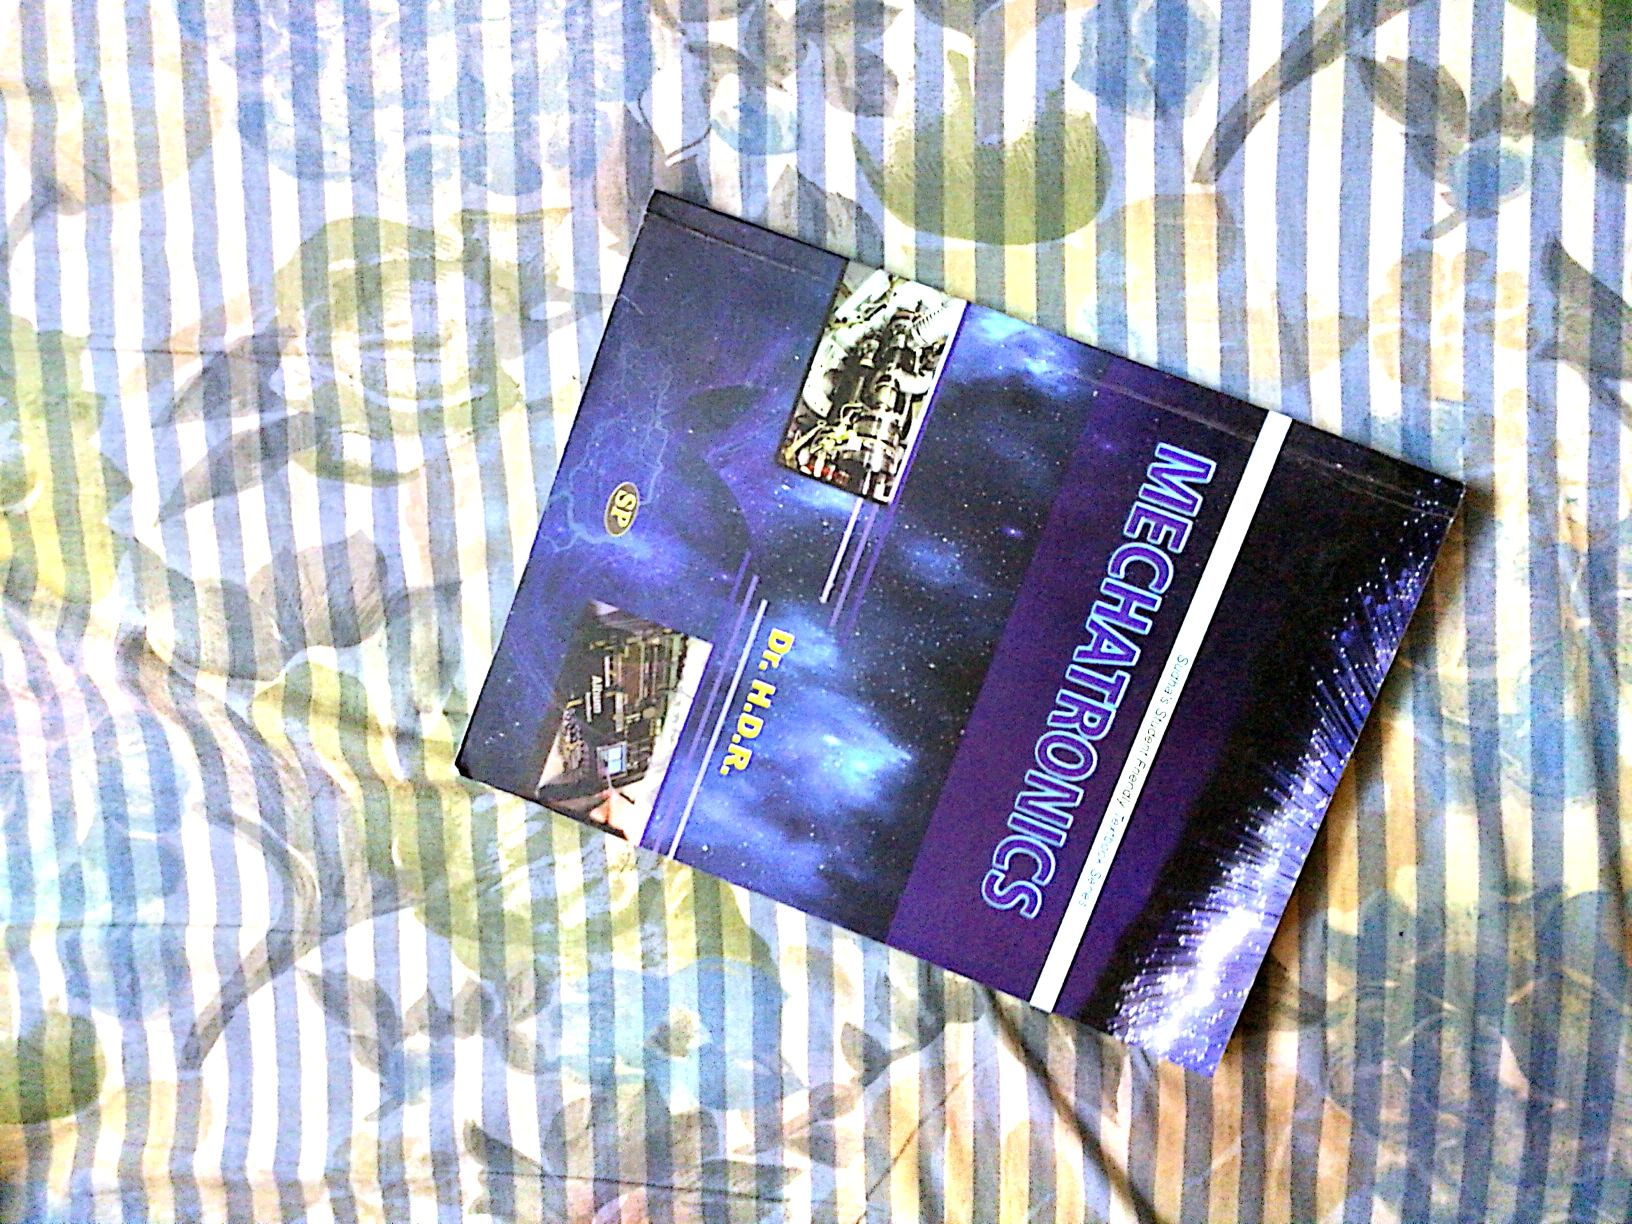mechatronics: (474, 213, 1414, 1094)
